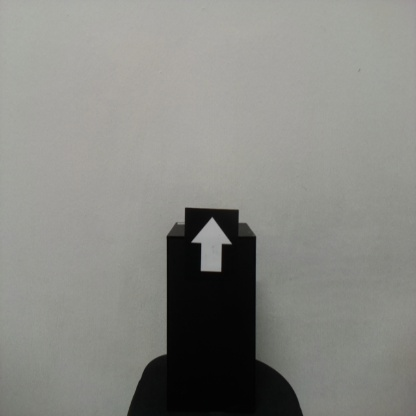id_1: (188, 211, 239, 282)
